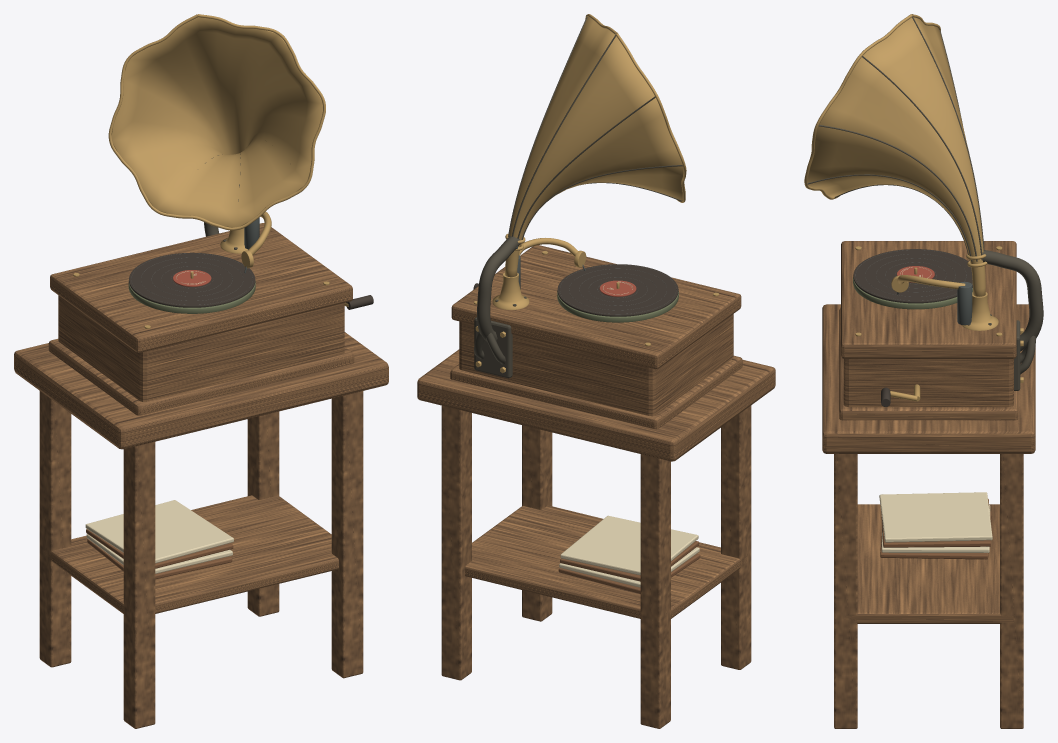
The model's file is FieldGramophone.fbx.
3 renders of one model, left to right at view 1: azimuth 30°, elevation 25°; view 2: azimuth 150°, elevation 25°; view 3: azimuth 270°, elevation 25°, orthographic. The views are drawn at different scales.
Visible parts, largest first — view 1: HQ_DarkWalnut, HQ_Brass, HQ_QuarterSawn, Record_Bakelite, HQ_Paper, HQ_Leather, Record_Canvas; view 2: HQ_DarkWalnut, HQ_QuarterSawn, HQ_Brass, HQ_Oxide, Record_Bakelite, HQ_Paper, HQ_Leather, Record_Canvas; view 3: HQ_DarkWalnut, HQ_QuarterSawn, HQ_Brass, HQ_Paper, HQ_Oxide, Record_Bakelite, HQ_Leather, Record_Canvas, HQ_Steel.
Boxes of the visible parts, x1,y1,x2,y2 form: HQ_DarkWalnut: (39, 295, 363, 728); HQ_Brass: (73, 14, 348, 328); HQ_QuarterSawn: (14, 223, 388, 449); Record_Bakelite: (129, 252, 255, 307); HQ_Paper: (85, 500, 233, 573); HQ_Leather: (86, 529, 233, 579); Record_Canvas: (128, 280, 255, 313); HQ_DarkWalnut: (441, 314, 751, 728); HQ_QuarterSawn: (417, 245, 775, 461); HQ_Brass: (474, 14, 718, 373); HQ_Oxide: (474, 17, 682, 378); Record_Bakelite: (557, 264, 678, 316); HQ_Paper: (559, 515, 699, 587); HQ_Leather: (558, 541, 700, 593); Record_Canvas: (557, 290, 678, 322); HQ_DarkWalnut: (834, 359, 1023, 728); HQ_QuarterSawn: (822, 241, 1035, 453); HQ_Brass: (804, 14, 1023, 401); HQ_Paper: (879, 492, 992, 552); HQ_Oxide: (807, 16, 1043, 390); Record_Bakelite: (853, 249, 972, 303); HQ_Leather: (880, 499, 991, 559); Record_Canvas: (853, 277, 972, 309); HQ_Steel: (897, 281, 972, 325).
Bounding box in the file's own units: 0.8175 × 1.83 × 0.6052.
